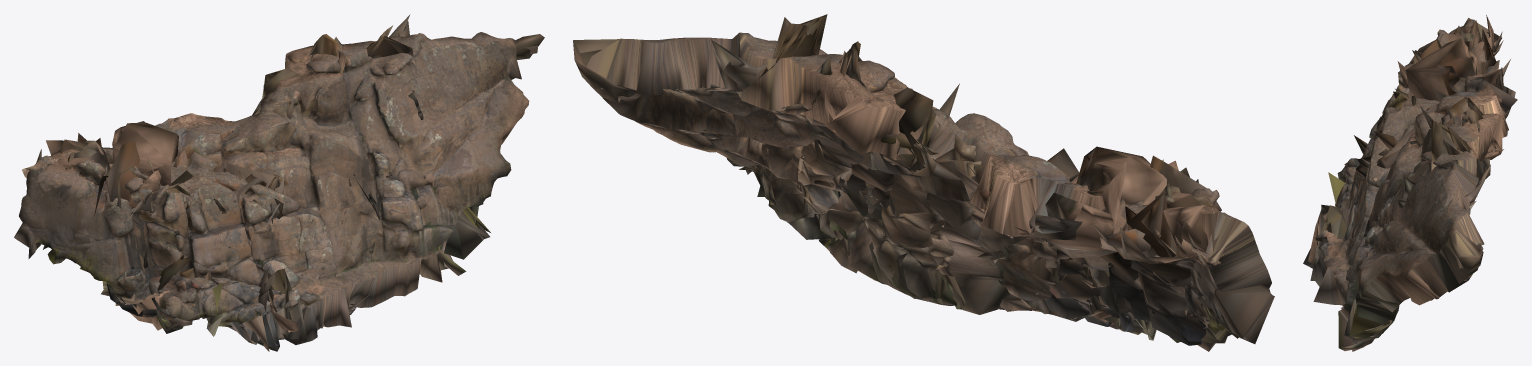
File: nama_cliff_02.glb
The picture shows the model from 3 angles, left to right: view 1: azimuth 30°, elevation 25°; view 2: azimuth 150°, elevation 25°; view 3: azimuth 270°, elevation 25°; orthographic projection. The views are drawn at different scales.
Visible parts, largest first — view 1: nama_cliff_02; view 2: nama_cliff_02; view 3: nama_cliff_02.
Part boxes in pixels (x1,y1,x2,y2): nama_cliff_02: [14, 14, 544, 351]; nama_cliff_02: [573, 14, 1274, 351]; nama_cliff_02: [1303, 15, 1517, 351].
Size of the model in its own units: 21.56 by 9.27 by 7.6.
1 material, 1 textured.
